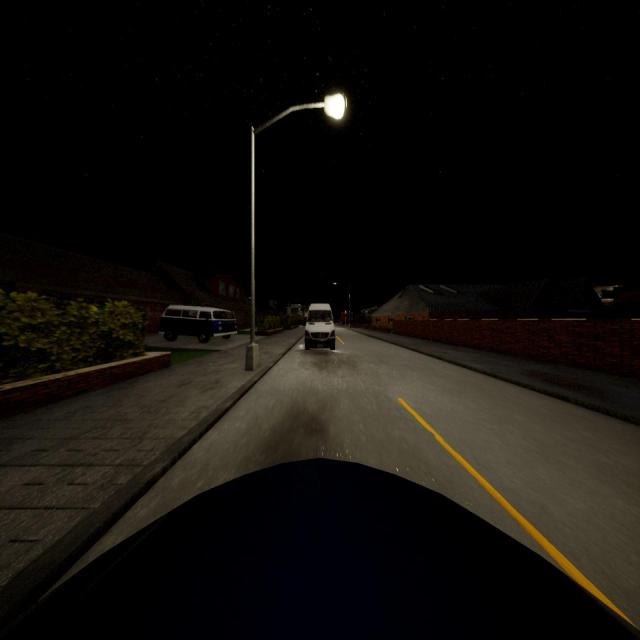Vehicle: (0, 460, 640, 640), (161, 304, 239, 344), (304, 304, 335, 351)
traffic_light: (344, 310, 346, 317)
